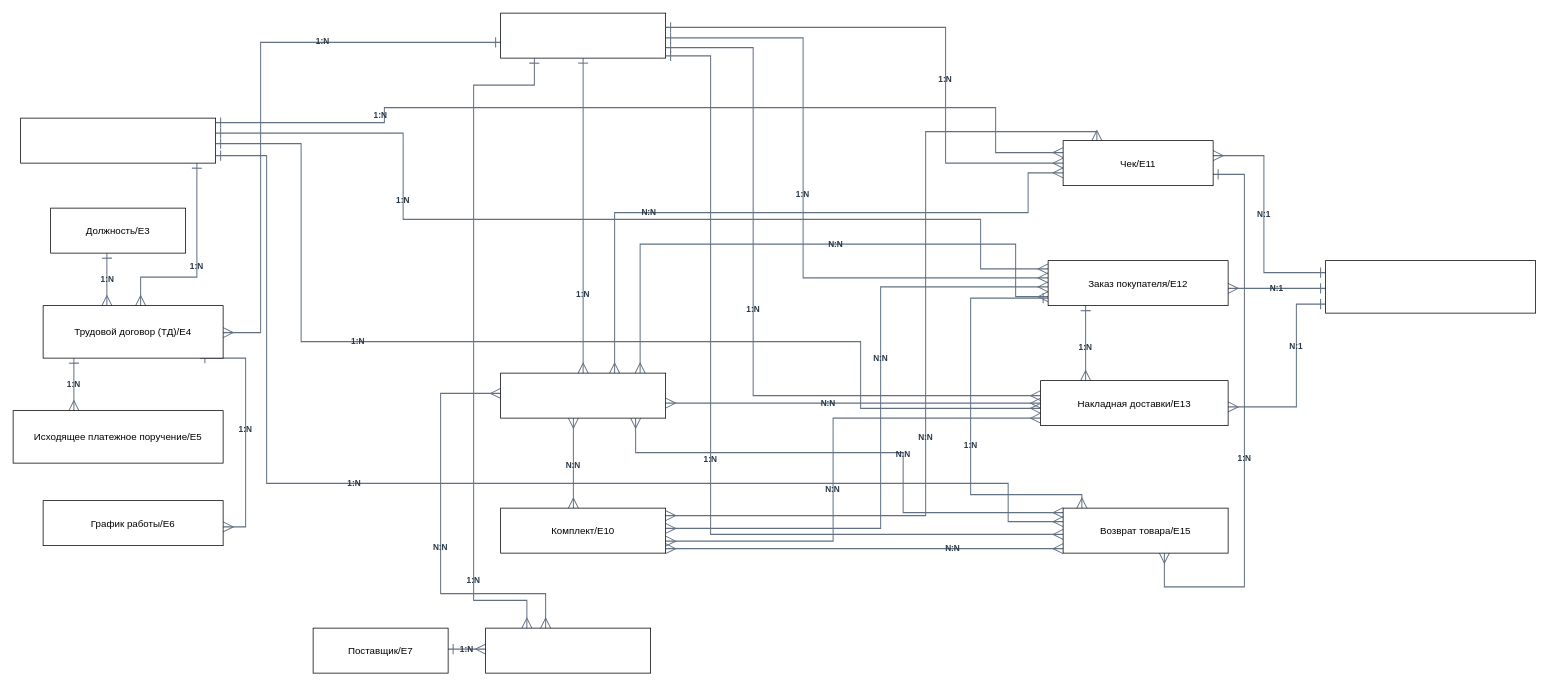
The diagram is 1549 pixels wide and 686 high, and some of its shapes have lost their labels. The box of each missing label's shape, as (x1, y1, x2, y2) in pixels:
Дисконтная карта покупателя/E14: (1325, 260, 1536, 313)
Документ поставки/E8: (485, 627, 651, 673)
Магазин/E1: (500, 12, 666, 58)
Одежда/E9: (500, 372, 666, 418)
Физическое лицо - сотрудник/E2: (20, 117, 216, 163)
